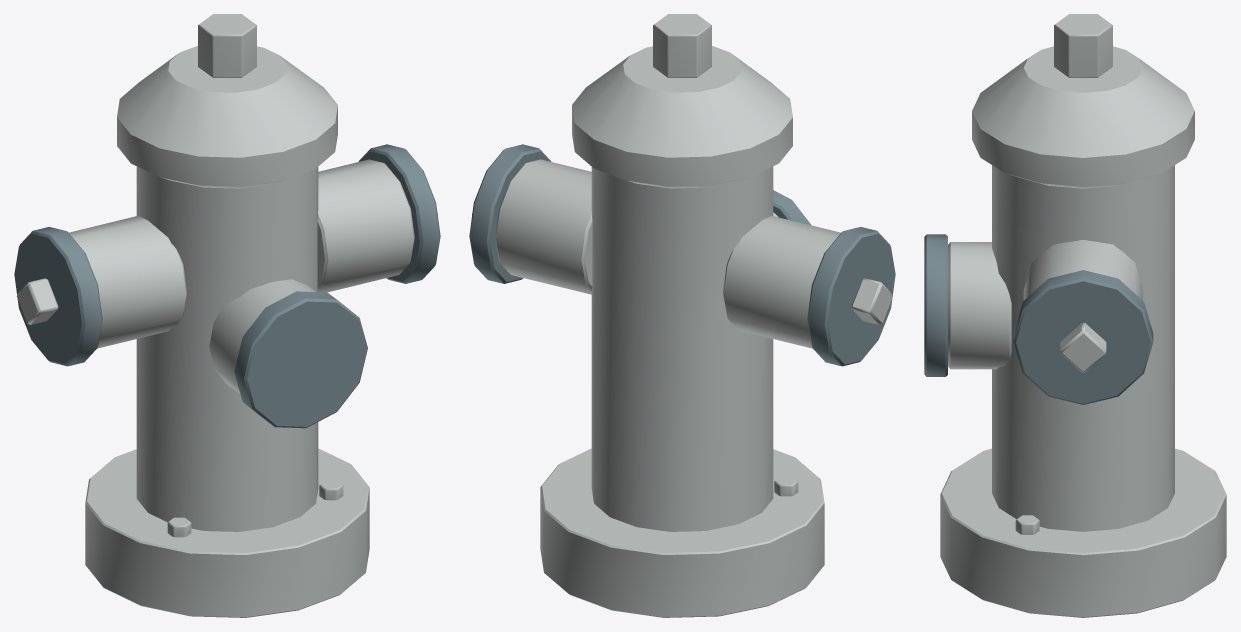
Rendered from fire-hydrant.glb.
The picture shows the model from 3 angles, left to right: view 1: azimuth 30°, elevation 25°; view 2: azimuth 150°, elevation 25°; view 3: azimuth 270°, elevation 25°; orthographic projection.
Visible parts, largest first — view 1: barrel, base_flange, cap, front_cap, side_port.001, side_port, hose_cap, hose_cap.001, front_port, cap_nut, cap_square; view 2: barrel, base_flange, cap, side_port.001, side_port, hose_cap, hose_cap.001, cap_nut, cap_square, front_cap; view 3: barrel, base_flange, cap, hose_cap.001, front_port, side_port.001, cap_nut, front_cap, cap_square.001, bolt.001.
Boxes of the visible parts, bbox=[...] form: barrel: bbox=[136, 166, 318, 531]; base_flange: bbox=[85, 448, 369, 617]; cap: bbox=[117, 46, 337, 188]; front_cap: bbox=[234, 291, 367, 428]; side_port.001: bbox=[317, 159, 414, 292]; side_port: bbox=[69, 215, 186, 348]; hose_cap: bbox=[14, 227, 102, 366]; hose_cap.001: bbox=[358, 144, 440, 283]; front_port: bbox=[209, 279, 315, 393]; cap_nut: bbox=[198, 14, 256, 77]; cap_square: bbox=[17, 278, 58, 324]; barrel: bbox=[591, 166, 773, 531]; base_flange: bbox=[540, 448, 824, 617]; cap: bbox=[572, 46, 792, 188]; side_port.001: bbox=[495, 159, 592, 294]; side_port: bbox=[723, 215, 840, 348]; hose_cap: bbox=[807, 227, 895, 366]; hose_cap.001: bbox=[469, 144, 551, 283]; cap_nut: bbox=[653, 14, 711, 77]; cap_square: bbox=[851, 278, 892, 324]; front_cap: bbox=[773, 190, 811, 225]; barrel: bbox=[992, 165, 1174, 531]; base_flange: bbox=[940, 448, 1226, 617]; cap: bbox=[972, 46, 1194, 188]; hose_cap.001: bbox=[1013, 270, 1153, 404]; front_port: bbox=[948, 242, 1011, 369]; side_port.001: bbox=[1023, 240, 1142, 300]; cap_nut: bbox=[1054, 14, 1112, 77]; front_cap: bbox=[924, 234, 947, 376]; cap_square.001: bbox=[1060, 323, 1106, 372]; bolt.001: bbox=[1015, 515, 1039, 534].
Bounding box in the file's own units: 0.58 × 0.74 × 0.38.
